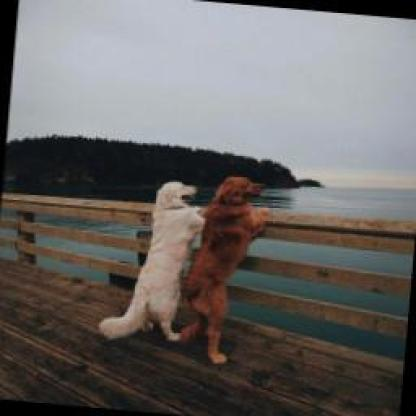dog: (174, 170, 273, 365), (95, 172, 207, 344)
